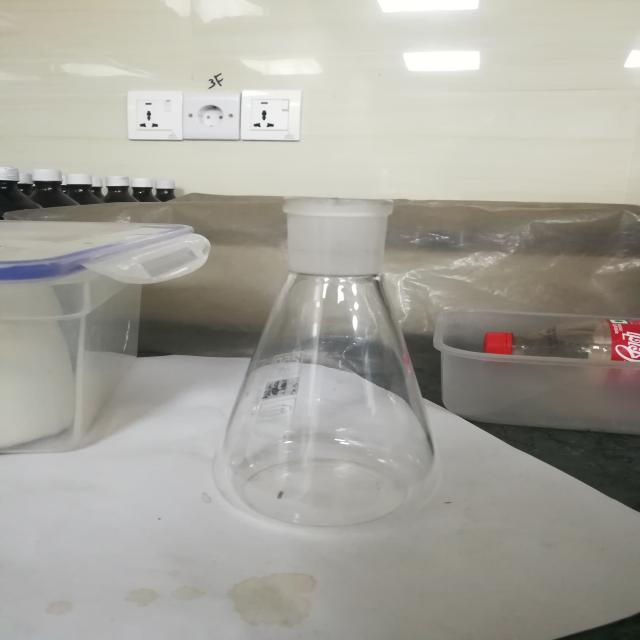Conical_Flask: (198, 157, 470, 542)
